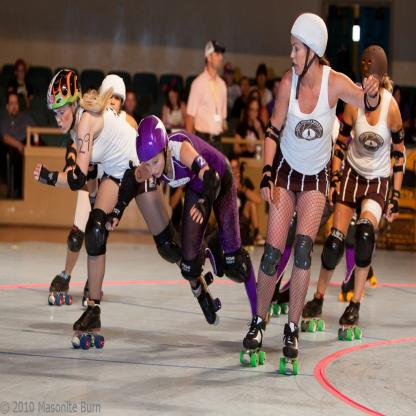Helmet: (130, 119, 180, 183), (293, 12, 330, 83), (43, 68, 77, 130), (360, 38, 390, 82)
